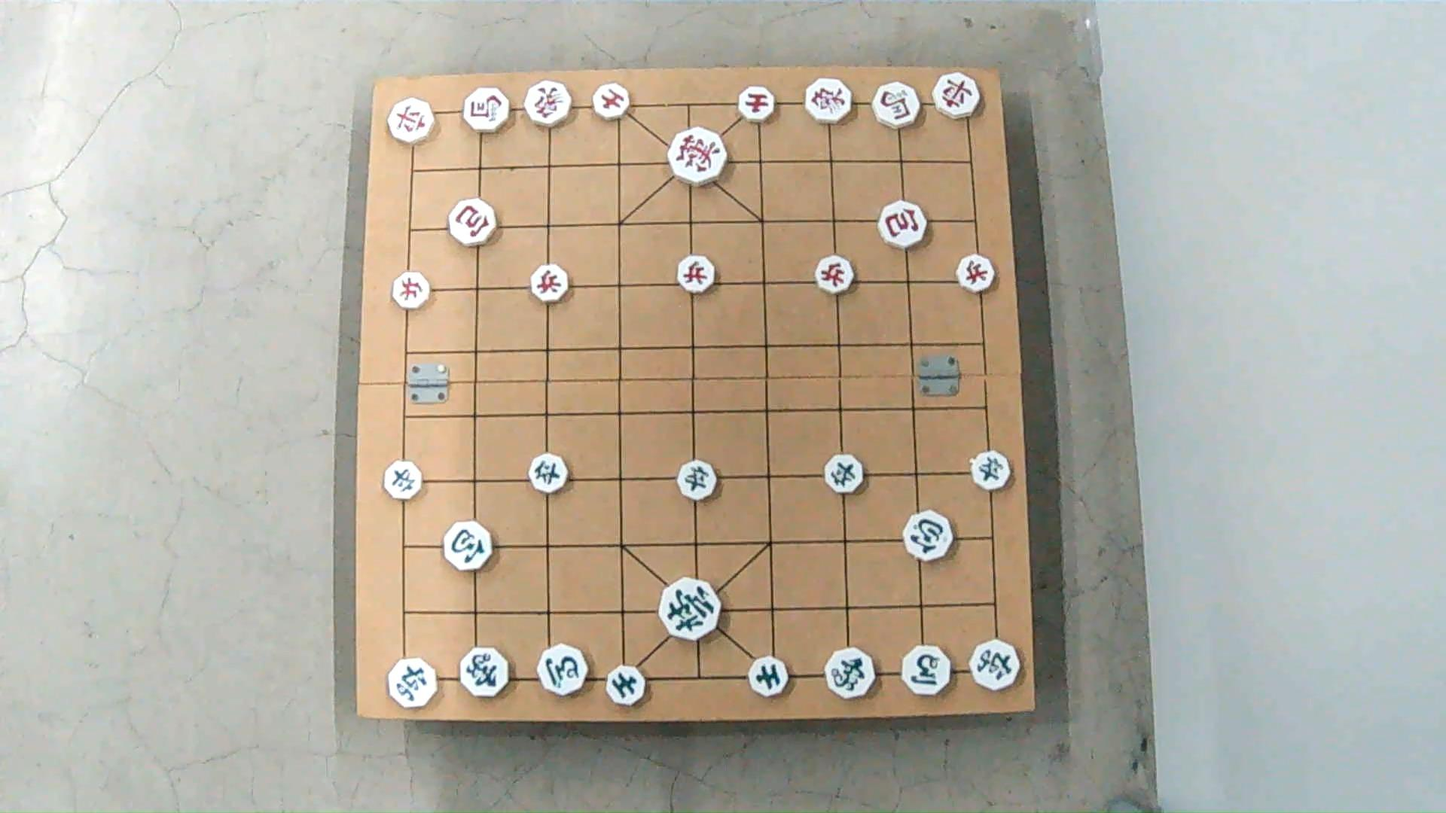cha_green: (967, 639, 1021, 690), (388, 661, 441, 708)
cha_red: (932, 75, 986, 119), (388, 102, 438, 142)
jol_green: (676, 464, 720, 501), (969, 452, 1014, 488), (825, 455, 868, 492), (528, 456, 572, 492), (385, 462, 429, 497)
jol_red: (529, 267, 572, 302), (956, 257, 999, 292), (813, 259, 857, 293), (679, 258, 720, 293), (392, 273, 435, 306)
ma_green: (535, 645, 592, 696), (898, 648, 953, 696)
ma_red: (869, 85, 920, 127), (463, 92, 513, 133)
po_green: (442, 520, 496, 570), (901, 512, 956, 561)
po_red: (877, 205, 930, 247), (450, 202, 501, 245)
sa_green: (602, 665, 646, 705), (749, 656, 792, 695)
sa_red: (738, 86, 779, 120), (593, 86, 634, 118)
sang_green: (823, 645, 880, 698), (459, 648, 513, 698)
sang_red: (524, 83, 575, 125), (806, 81, 856, 120)
wang_green: (659, 580, 722, 635)
wang_red: (667, 131, 730, 181)
